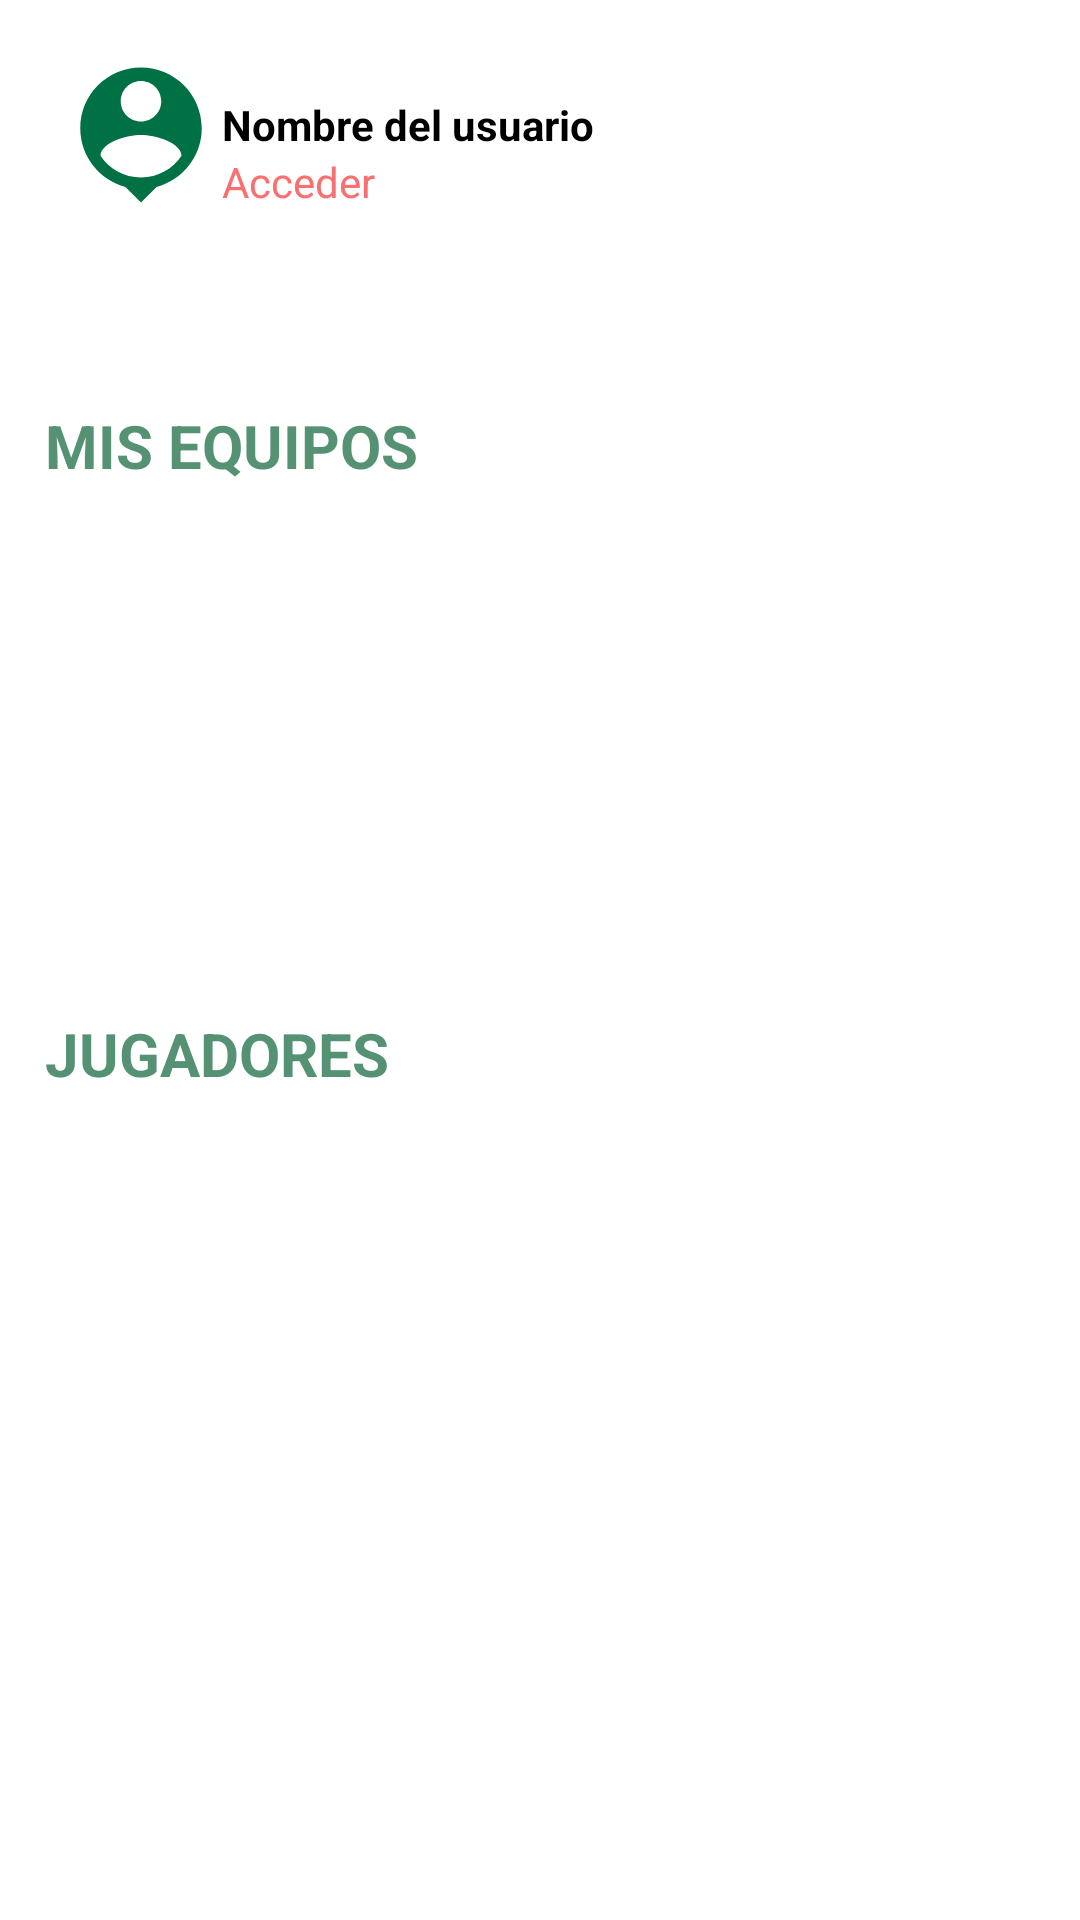

Where icons sit on this 1080 × 1920 app screen, as (x1, y1, x2, y2):
person pin: (80, 67, 202, 203)
